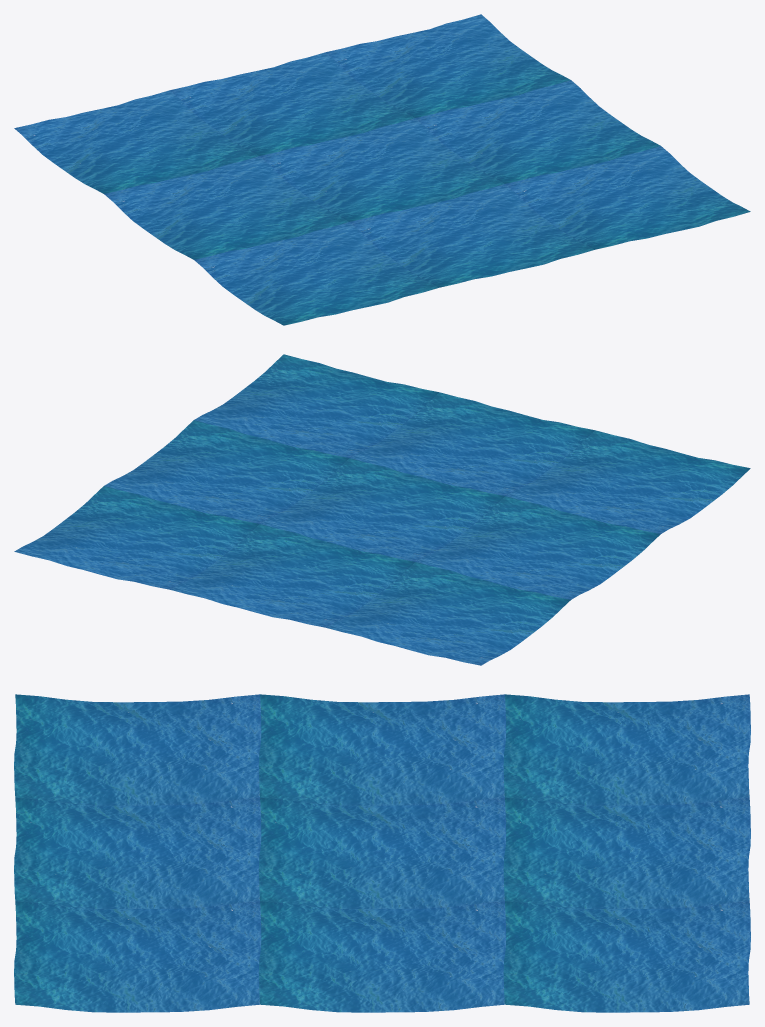
File: ocean_000010.obj
The picture shows the model from 3 angles, top to bottom: view 1: azimuth 30°, elevation 25°; view 2: azimuth 150°, elevation 25°; view 3: azimuth 270°, elevation 25°; orthographic projection. The views are drawn at different scales.
Visible parts, largest first — view 1: Ocean_Plan.001; view 2: Ocean_Plan.001; view 3: Ocean_Plan.001.
Part boxes in pixels (x1,y1,x2,y2): Ocean_Plan.001: [14, 14, 750, 325]; Ocean_Plan.001: [14, 354, 750, 665]; Ocean_Plan.001: [14, 694, 750, 1012].
Bounding box in the file's own units: 109115 × 1360 × 109353.
Materials: 1 (1 with a texture image).
